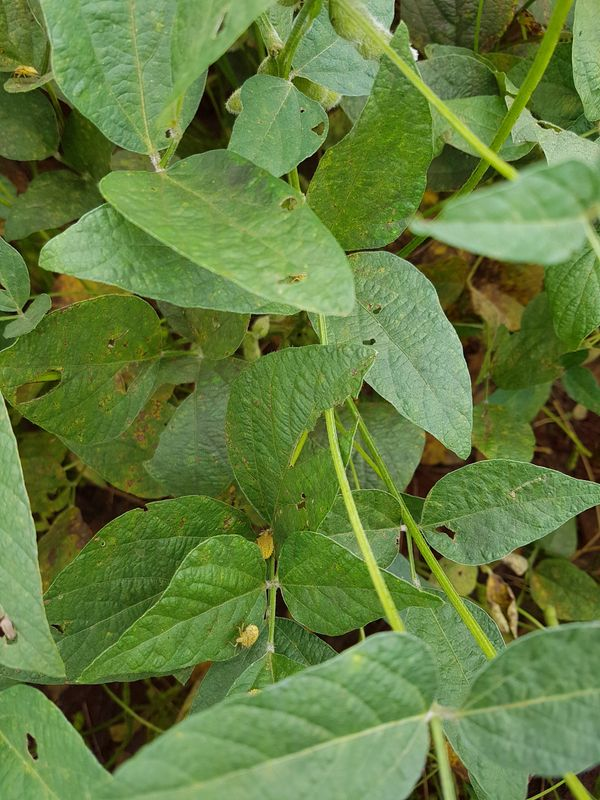Euschistus_heros_ninfa: (222, 617, 266, 660), (244, 522, 283, 565), (5, 56, 46, 91)
